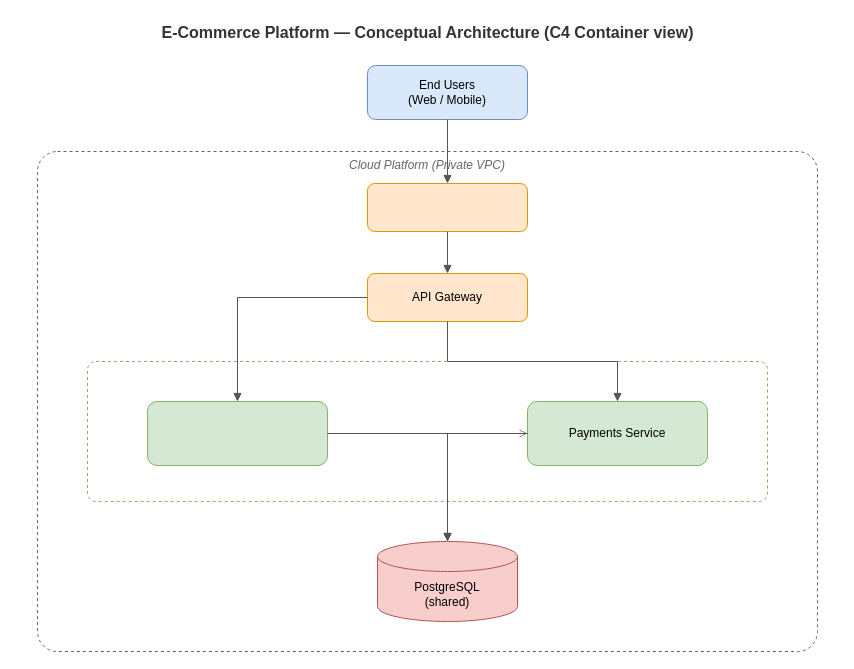
This 854x669 diagram has some shape labels left out. The box of each missing label's shape, as (x1, y1, x2, y2) in pixels:
Application Services: (86, 360, 768, 502)
CDN / Edge: (366, 182, 528, 232)
Orders Service: (146, 400, 328, 466)
